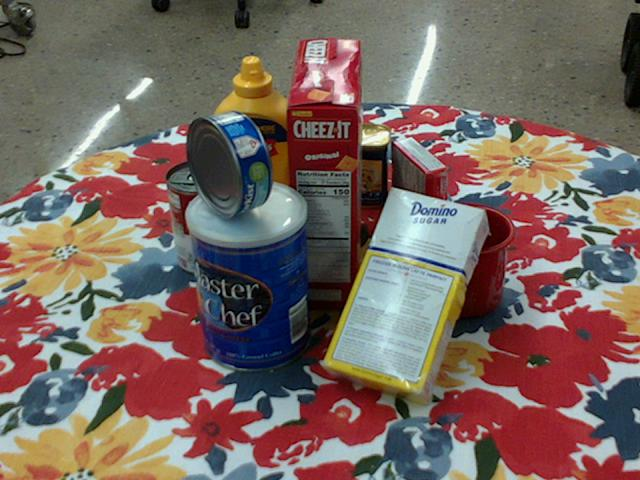cracker_box: (282, 41, 362, 310)
gelatin_box: (390, 135, 446, 229)
large_marker: (330, 76, 353, 126)
master_chef_can: (186, 181, 310, 375)
mug: (389, 202, 513, 317)
mustard_bottle: (209, 57, 304, 231)
potted_meat_can: (298, 122, 390, 208)
sugar_box: (321, 190, 487, 409)
tomato_soup_can: (164, 159, 239, 276)
tuna_fish_can: (185, 111, 272, 219)
